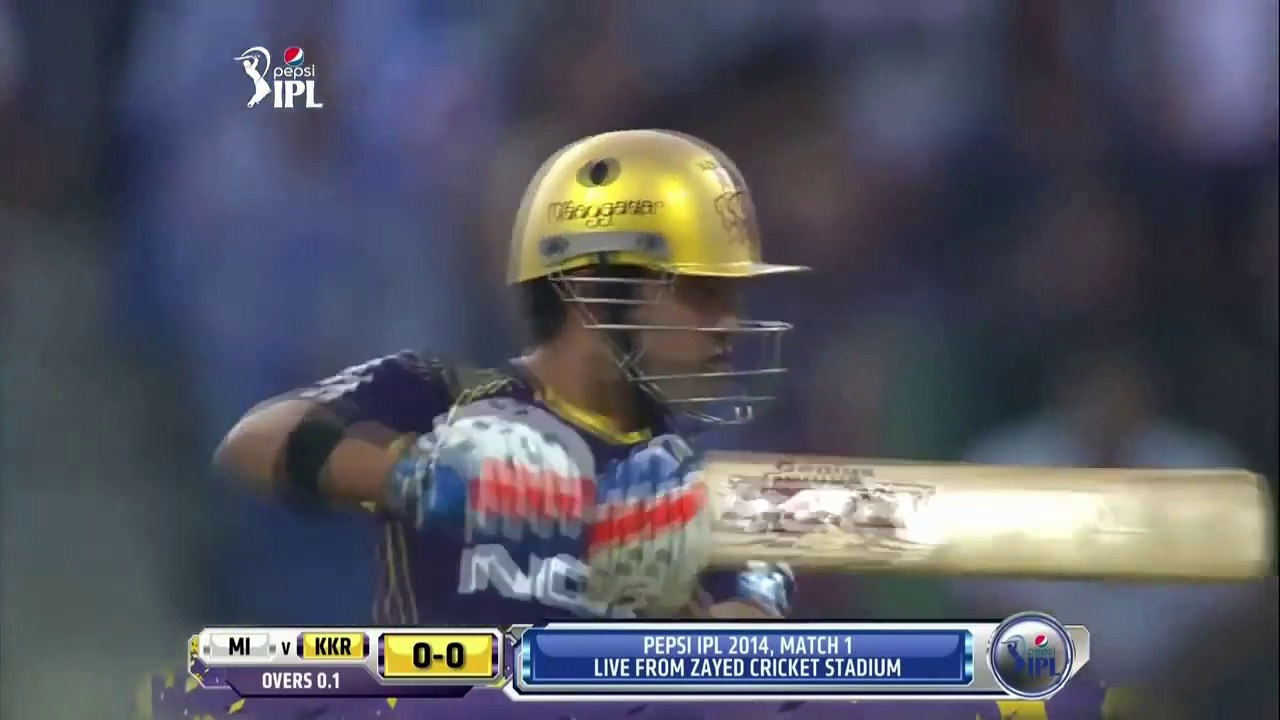bat: (939, 459, 1273, 580)
